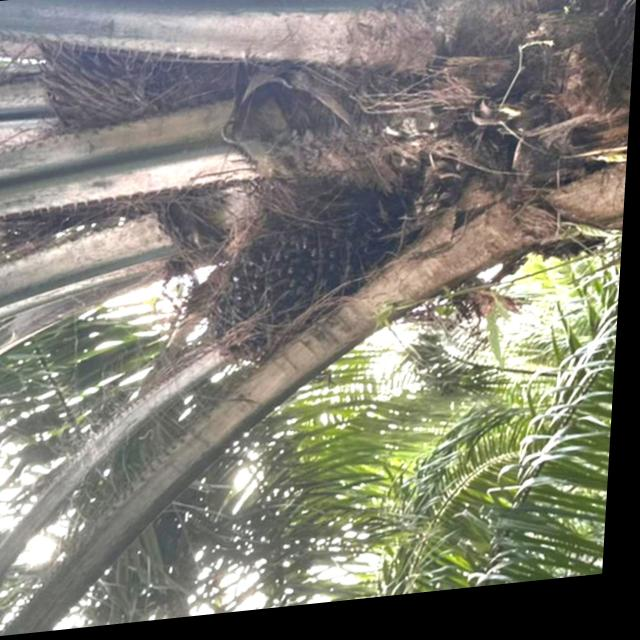unripe: (203, 206, 380, 377)
